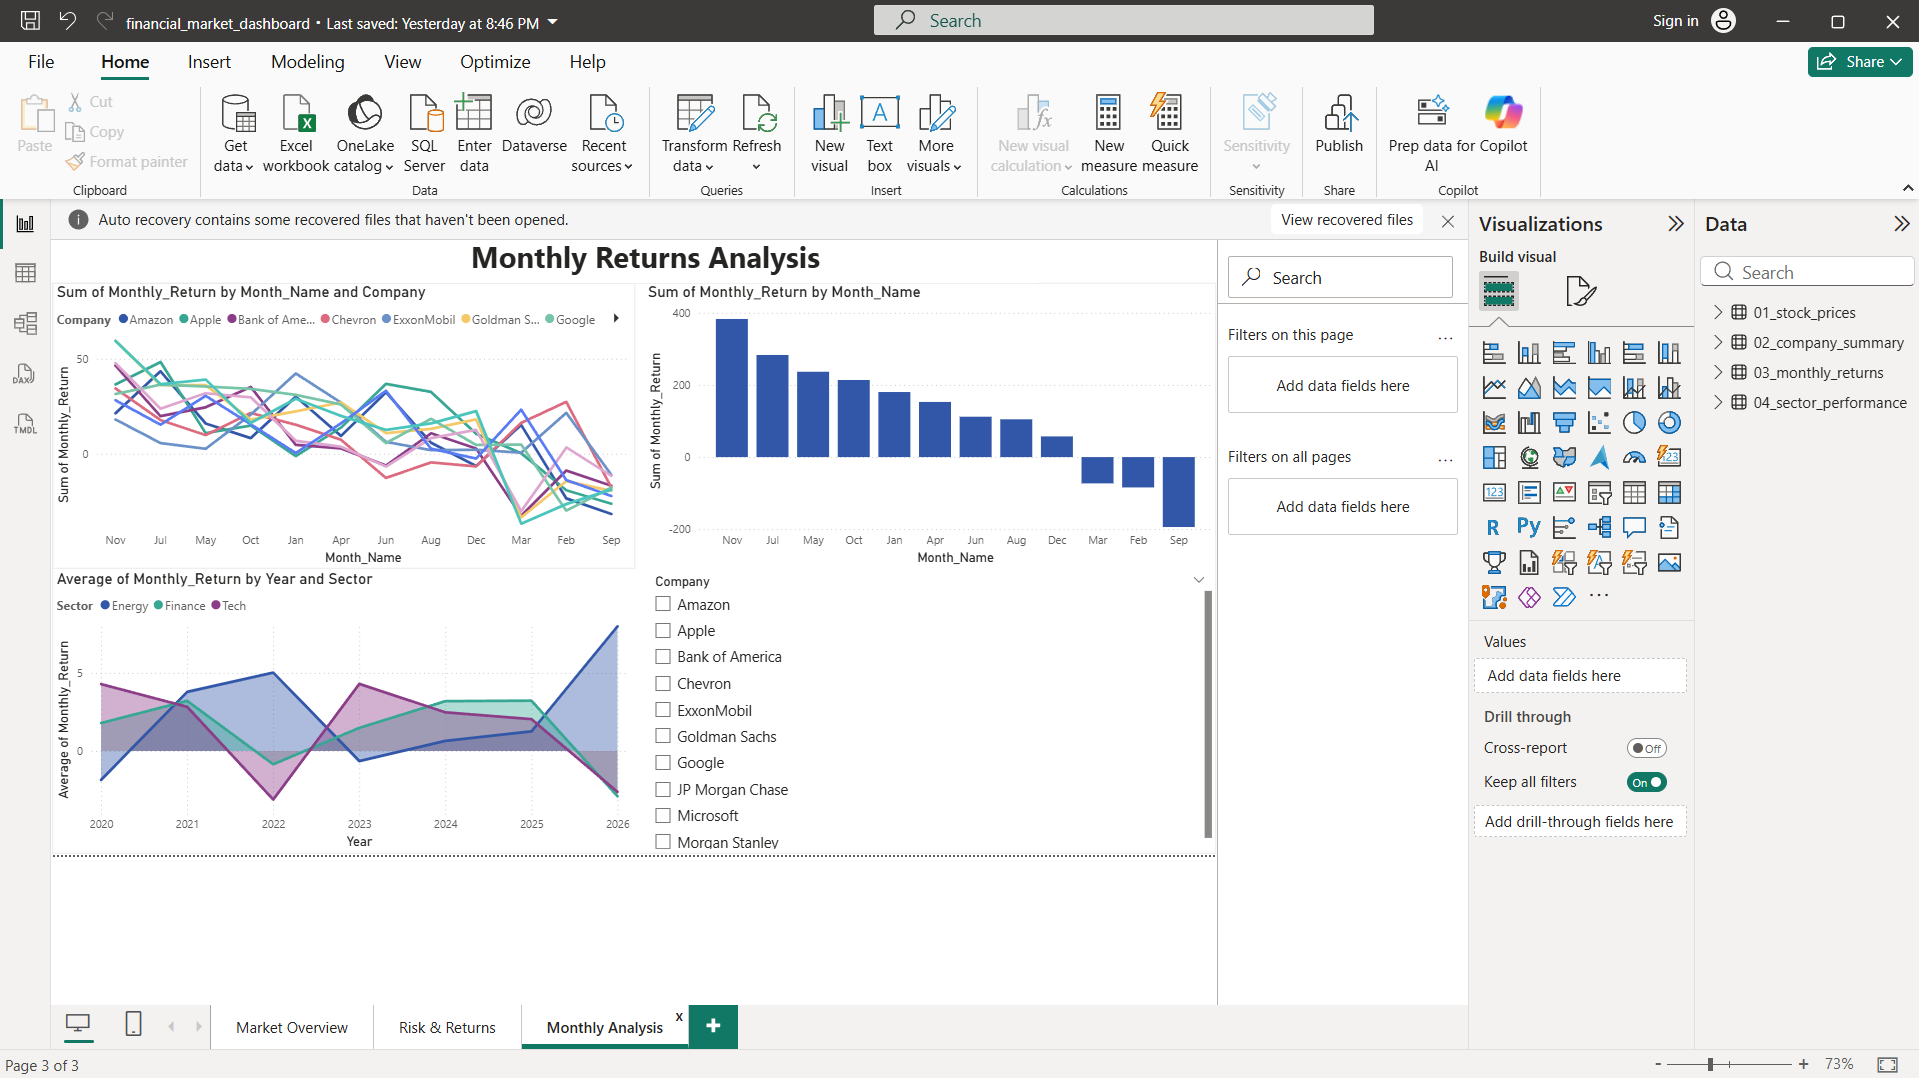

The page's visual inventory and layout, read from the dashboard file:
{"tool":"powerbi","page":{"name":"Monthly Analysis","canvas":[1280,720],"ordinal":2},"visuals":[{"type":"lineChart","fields":{"Category":["03_monthly_returns.Month_Name"],"Y":["Sum(03_monthly_returns.Monthly_Return)"],"Series":["03_monthly_returns.Company"]},"box":[0,34,640,344.3],"z":0},{"type":"areaChart","fields":{"Y":["Avg(03_monthly_returns.Monthly_Return)"],"Category":["03_monthly_returns.Year"],"Series":["03_monthly_returns.Sector"]},"box":[0,378.4,640,341.4],"z":1},{"type":"clusteredColumnChart","fields":{"Category":["03_monthly_returns.Month_Name"],"Y":["Sum(03_monthly_returns.Monthly_Return)"]},"box":[650,34,630,344],"z":2},{"type":"slicer","fields":{"Values":["03_monthly_returns.Company"]},"box":[650,378,630,341],"z":3}]}

Visuals, with their boxes on the page's 1280x720 design canvas (x1, y1, x2, y2). These are canvas units, not pixel positions in the 1919x1078 screenshot, which may show the page scaled, cropped or inside an application window:
lineChart - 03_monthly_returns.Month_Name x Sum(03_monthly_returns.Monthly_Return): x1=0 y1=34 x2=640 y2=378
areaChart - Avg(03_monthly_returns.Monthly_Return) x 03_monthly_returns.Year: x1=0 y1=378 x2=640 y2=720
clusteredColumnChart - 03_monthly_returns.Month_Name x Sum(03_monthly_returns.Monthly_Return): x1=650 y1=34 x2=1280 y2=378
slicer - 03_monthly_returns.Company: x1=650 y1=378 x2=1280 y2=719
